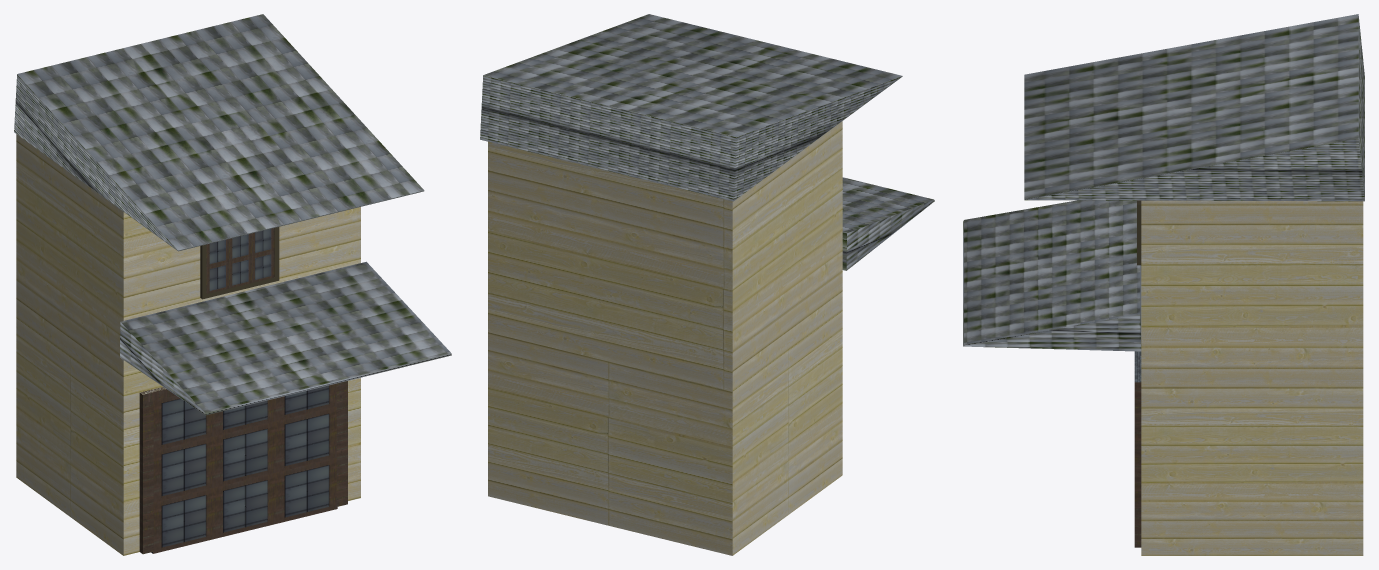
The model's file is building01.fbx.
3 renders of one model, left to right at view 1: azimuth 30°, elevation 25°; view 2: azimuth 150°, elevation 25°; view 3: azimuth 270°, elevation 25°, orthographic. The views are drawn at different scales.
Parts seen in each view (by area): view 1: roof.001, building, roof, door2, door1, door2.001, door1.001; view 2: building, roof.001, roof; view 3: building, roof.001, roof, door1.
Part boxes in pixels (<box>): roof.001: <box>14,14,424,251</box>; building: <box>16,134,360,555</box>; roof: <box>120,261,451,415</box>; door2: <box>151,383,337,553</box>; door1: <box>139,381,347,554</box>; door2.001: <box>206,228,274,293</box>; door1.001: <box>200,227,279,299</box>; building: <box>488,121,842,555</box>; roof.001: <box>480,14,902,201</box>; roof: <box>842,177,934,270</box>; building: <box>1141,200,1363,555</box>; roof.001: <box>1024,14,1364,201</box>; roof: <box>963,200,1141,351</box>; door1: <box>1134,382,1141,547</box>.
Bounding box in the file's own units: 1063 × 1669 × 1437.
